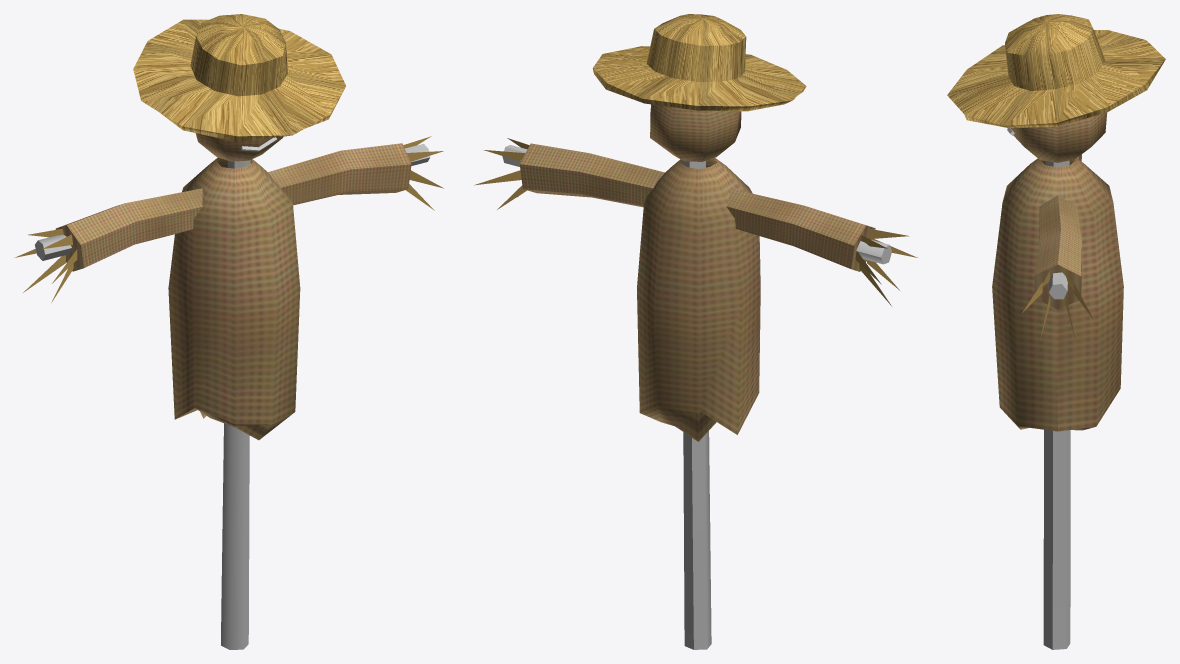
The model's file is SE_Scarecrow.glb.
3 renders of one model, left to right at view 1: azimuth 30°, elevation 25°; view 2: azimuth 150°, elevation 25°; view 3: azimuth 270°, elevation 25°, orthographic.
Parts seen in each view (by area): view 1: SE_Scarecrow; view 2: SE_Scarecrow; view 3: SE_Scarecrow.
Part boxes in pixels (x1,y1,x2,y2): SE_Scarecrow: (14,14,443,649); SE_Scarecrow: (474,14,917,649); SE_Scarecrow: (947,14,1165,649).
Size of what is drawn, in the model's own units: 1.55 by 2.24 by 0.7116.
